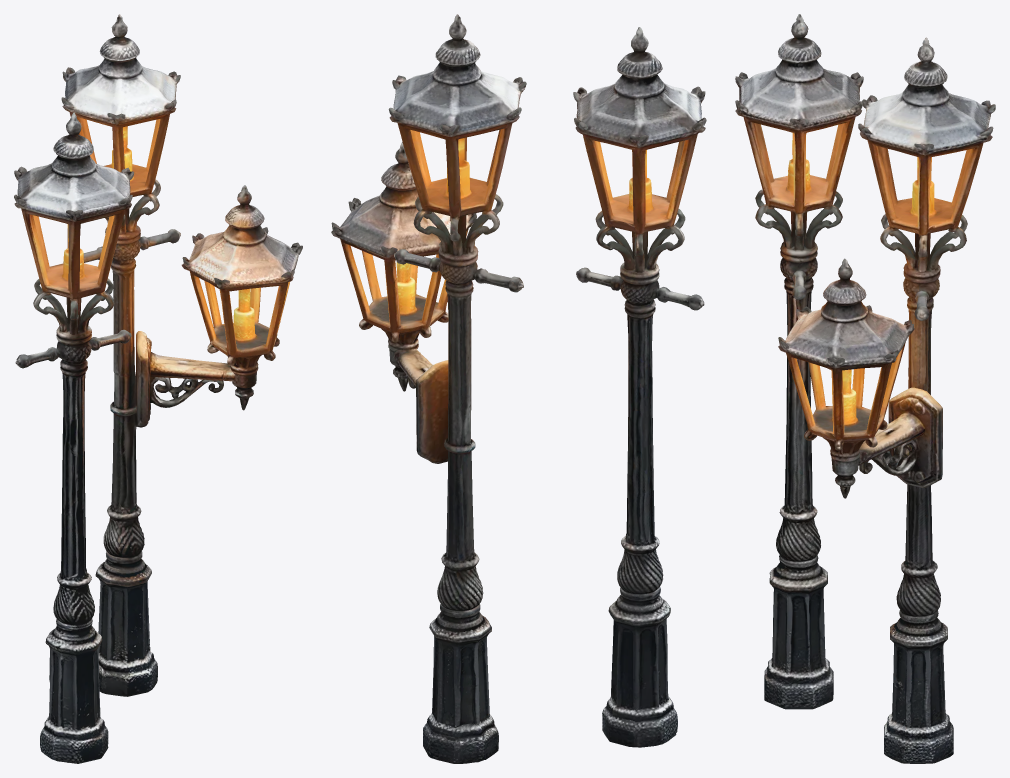
File: street_lamp.glb
3 renders of one model, left to right at view 1: azimuth 30°, elevation 25°; view 2: azimuth 150°, elevation 25°; view 3: azimuth 270°, elevation 25°, orthographic. The views are drawn at different scales.
Visible parts, largest first — view 1: tripo_node_8c1c2586-9990-4251-a88e-2e6a472018ca; view 2: tripo_node_8c1c2586-9990-4251-a88e-2e6a472018ca; view 3: tripo_node_8c1c2586-9990-4251-a88e-2e6a472018ca.
Boxes of the visible parts, x1,y1,x2,y2 form: tripo_node_8c1c2586-9990-4251-a88e-2e6a472018ca: (14,14,302,763); tripo_node_8c1c2586-9990-4251-a88e-2e6a472018ca: (331,14,706,763); tripo_node_8c1c2586-9990-4251-a88e-2e6a472018ca: (735,14,995,763).
Bounding box in the file's own units: 0.4674 × 0.9793 × 0.3245.
Materials: 1 (1 with a texture image).
